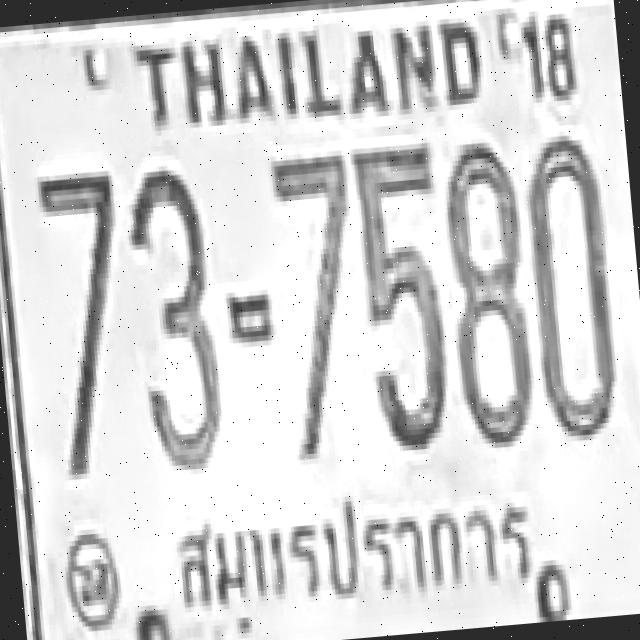0: (522, 130, 622, 440)
3: (122, 159, 225, 470)
5: (350, 139, 456, 450)
7: (267, 146, 370, 458), (35, 165, 136, 480)
8: (439, 138, 536, 448)
SamutPrakan: (160, 463, 542, 635)
